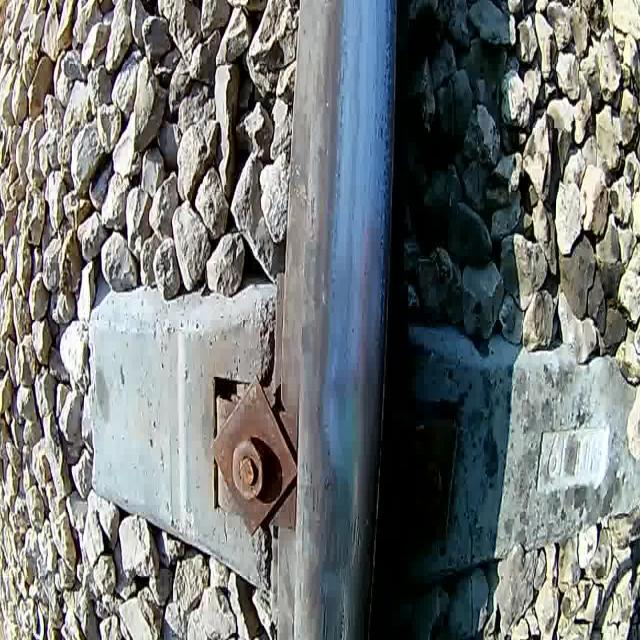Cracks: (348, 506, 364, 569)
Flakings: (375, 0, 398, 519)
Grooves: (318, 600, 334, 640)
Squats: (302, 461, 356, 581), (299, 568, 346, 640)
